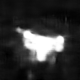plane: (14, 26, 67, 64)
